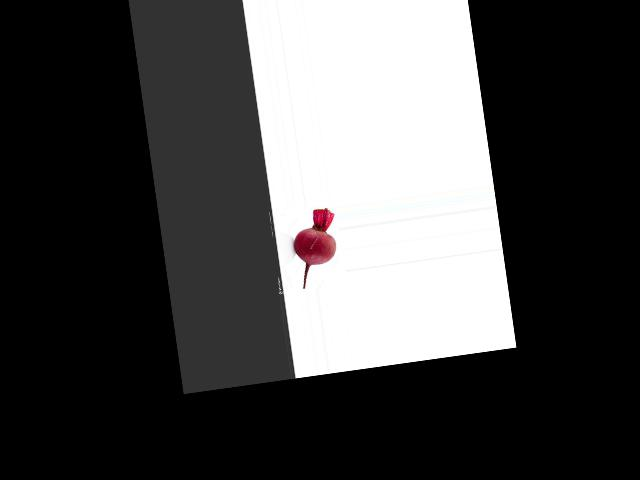beet: (289, 206, 343, 288)
